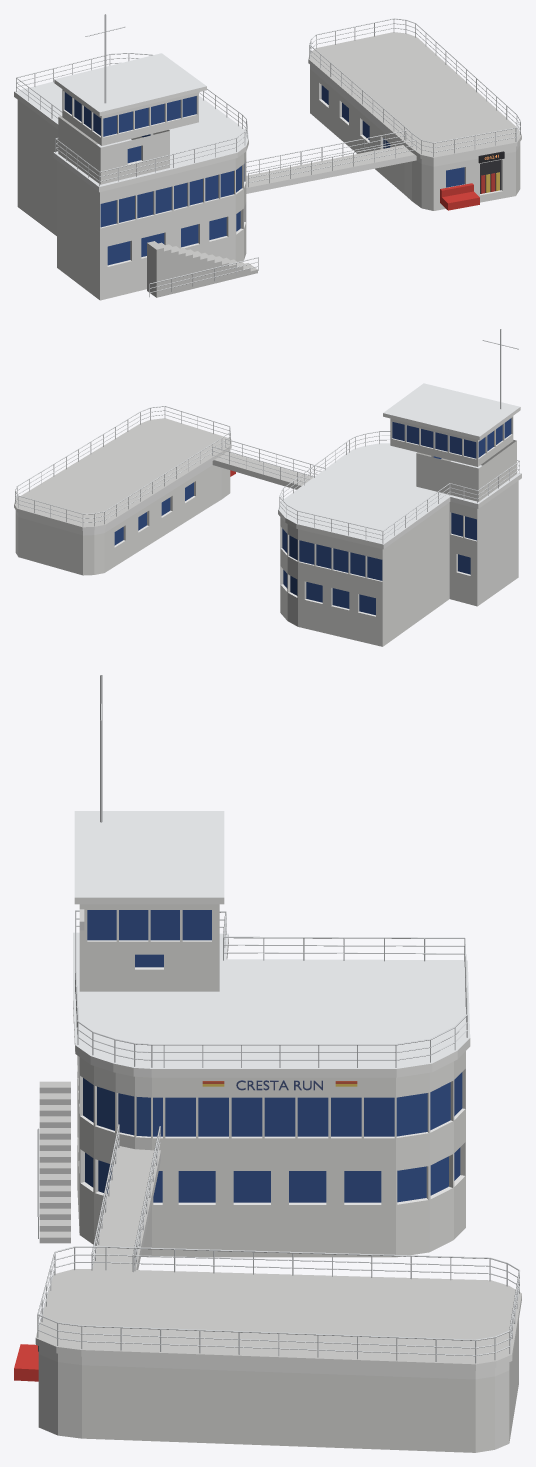
File: junction.glb
3 views of the same model, one above another, from view 1: azimuth 30°, elevation 25°; view 2: azimuth 150°, elevation 25°; view 3: azimuth 270°, elevation 25° (orthographic). The views are drawn at different scales.
Visible parts, largest first — view 1: clubhouse, junction_hut, walkway; view 2: clubhouse, junction_hut, walkway; view 3: clubhouse, junction_hut, walkway.
Boxes of the visible parts, bbox=[...] form: clubhouse: bbox=[14, 14, 258, 300]; junction_hut: bbox=[308, 18, 521, 210]; walkway: bbox=[246, 130, 416, 193]; clubhouse: bbox=[278, 329, 521, 646]; junction_hut: bbox=[14, 406, 235, 575]; walkway: bbox=[212, 438, 324, 489]; clubhouse: bbox=[37, 675, 470, 1257]; junction_hut: bbox=[14, 1246, 521, 1452]; walkway: bbox=[91, 1124, 160, 1272].
Size of the model in its own units: 35.22 by 21 by 21.04.
